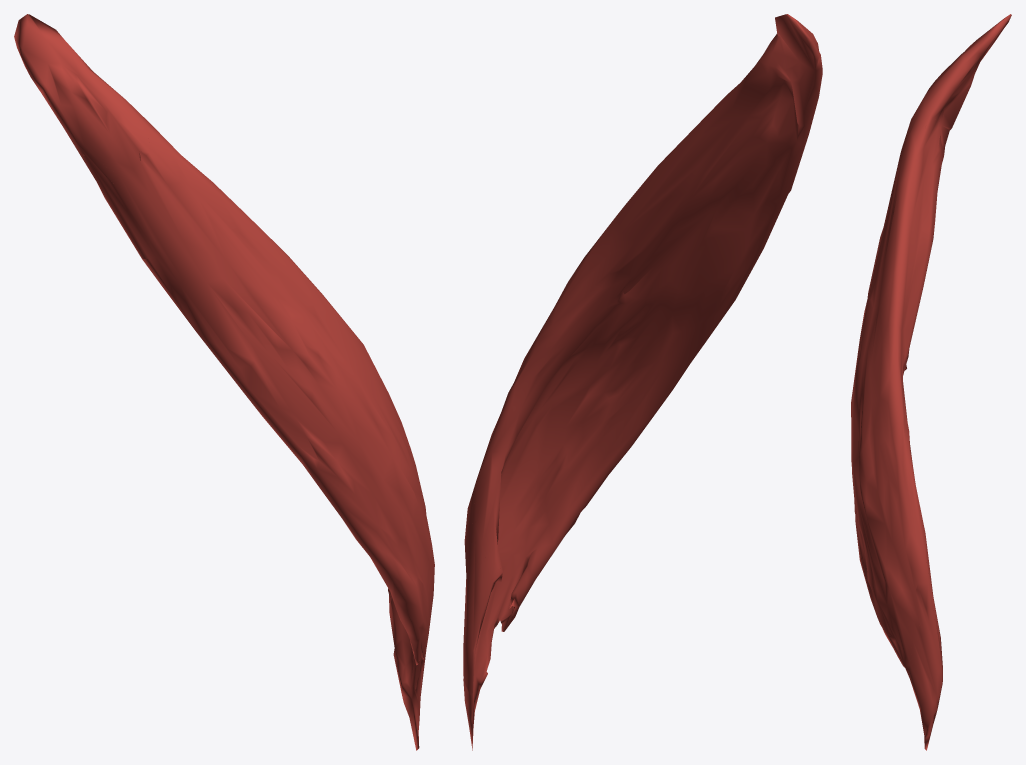
The model's file is musculos-superficial-head-of-pronator-teres-l.glb.
3 views of the same model, side by side, from view 1: azimuth 30°, elevation 25°; view 2: azimuth 150°, elevation 25°; view 3: azimuth 270°, elevation 25° (orthographic). The views are drawn at different scales.
Parts seen in each view (by area): view 1: Superficial head of pronator teres.l; view 2: Superficial head of pronator teres.l; view 3: Superficial head of pronator teres.l.
Part boxes in pixels (left/top/right/bottom): Superficial head of pronator teres.l: left=14, top=14, right=434, bottom=750; Superficial head of pronator teres.l: left=463, top=14, right=822, bottom=750; Superficial head of pronator teres.l: left=851, top=14, right=1011, bottom=750.
Size of the model in its own units: 0.0722 by 0.1506 by 0.0361.
